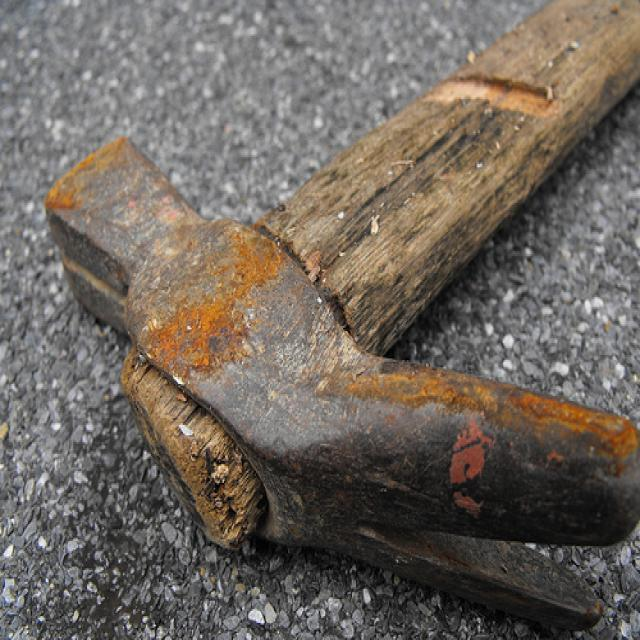hammer: (31, 0, 640, 585)
